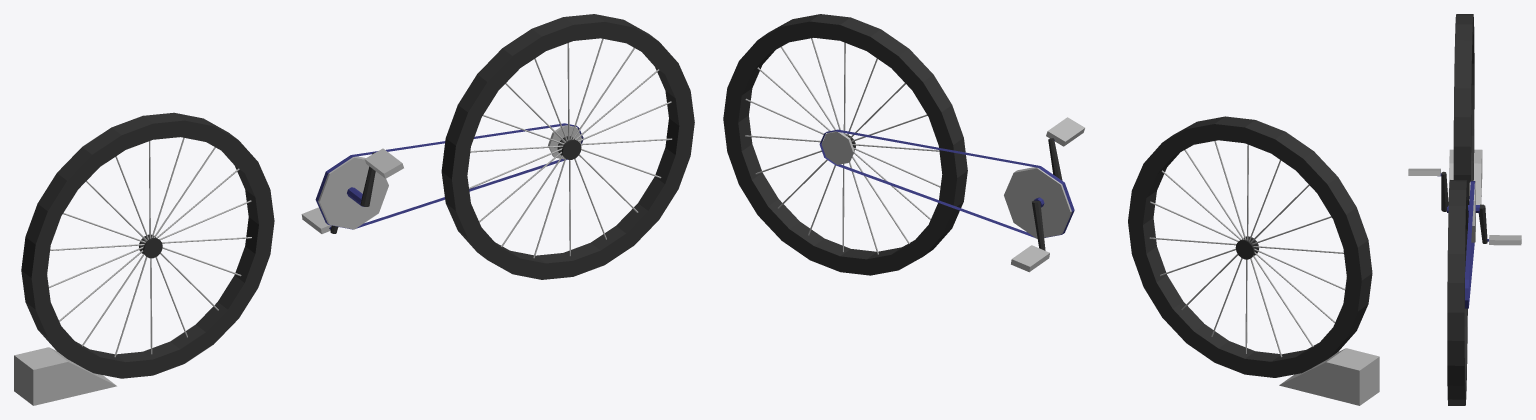
The model's file is bike.dae.
The picture shows the model from 3 angles, left to right: view 1: azimuth 30°, elevation 25°; view 2: azimuth 150°, elevation 25°; view 3: azimuth 270°, elevation 25°; orthographic projection. The views are drawn at different scales.
Parts seen in each view (by area): view 1: wheelFron, wheelBack, block, pedalGear, chain, pedal2; view 2: wheelFron, wheelBack, block, pedalGear, chain, backWheelGear, pedal2, pedal1; view 3: wheelBack, wheelFron, chain, block, pedal1, pedal2Beam, pedal1Beam, pedal2, pedalGear.
Part boxes in pixels (x1=…): wheelFron: x1=21, y1=112, x2=274, y2=378; wheelBack: x1=441, y1=14, x2=694, y2=279; block: x1=14, y1=347, x2=116, y2=405; pedalGear: x1=318, y1=156, x2=388, y2=229; chain: x1=315, y1=123, x2=583, y2=229; pedal2: x1=364, y1=148, x2=403, y2=178; wheelFron: x1=1128, y1=116, x2=1372, y2=377; wheelBack: x1=723, y1=14, x2=967, y2=275; block: x1=1279, y1=348, x2=1379, y2=405; pedalGear: x1=1004, y1=167, x2=1071, y2=238; chain: x1=819, y1=129, x2=1074, y2=237; backWheelGear: x1=821, y1=131, x2=854, y2=164; pedal2: x1=1046, y1=117, x2=1084, y2=146; pedal1: x1=1011, y1=245, x2=1049, y2=272; wheelBack: x1=1447, y1=180, x2=1467, y2=405; wheelFron: x1=1453, y1=14, x2=1474, y2=222; chain: x1=1464, y1=181, x2=1475, y2=308; block: x1=1448, y1=149, x2=1482, y2=204; pedal1: x1=1489, y1=235, x2=1521, y2=245; pedal2Beam: x1=1441, y1=171, x2=1448, y2=211; pedal1Beam: x1=1478, y1=204, x2=1487, y2=243; pedal2: x1=1408, y1=168, x2=1440, y2=175; pedalGear: x1=1469, y1=181, x2=1475, y2=242.
Size of the model in its own units: 19.19 by 7 by 3.5.
